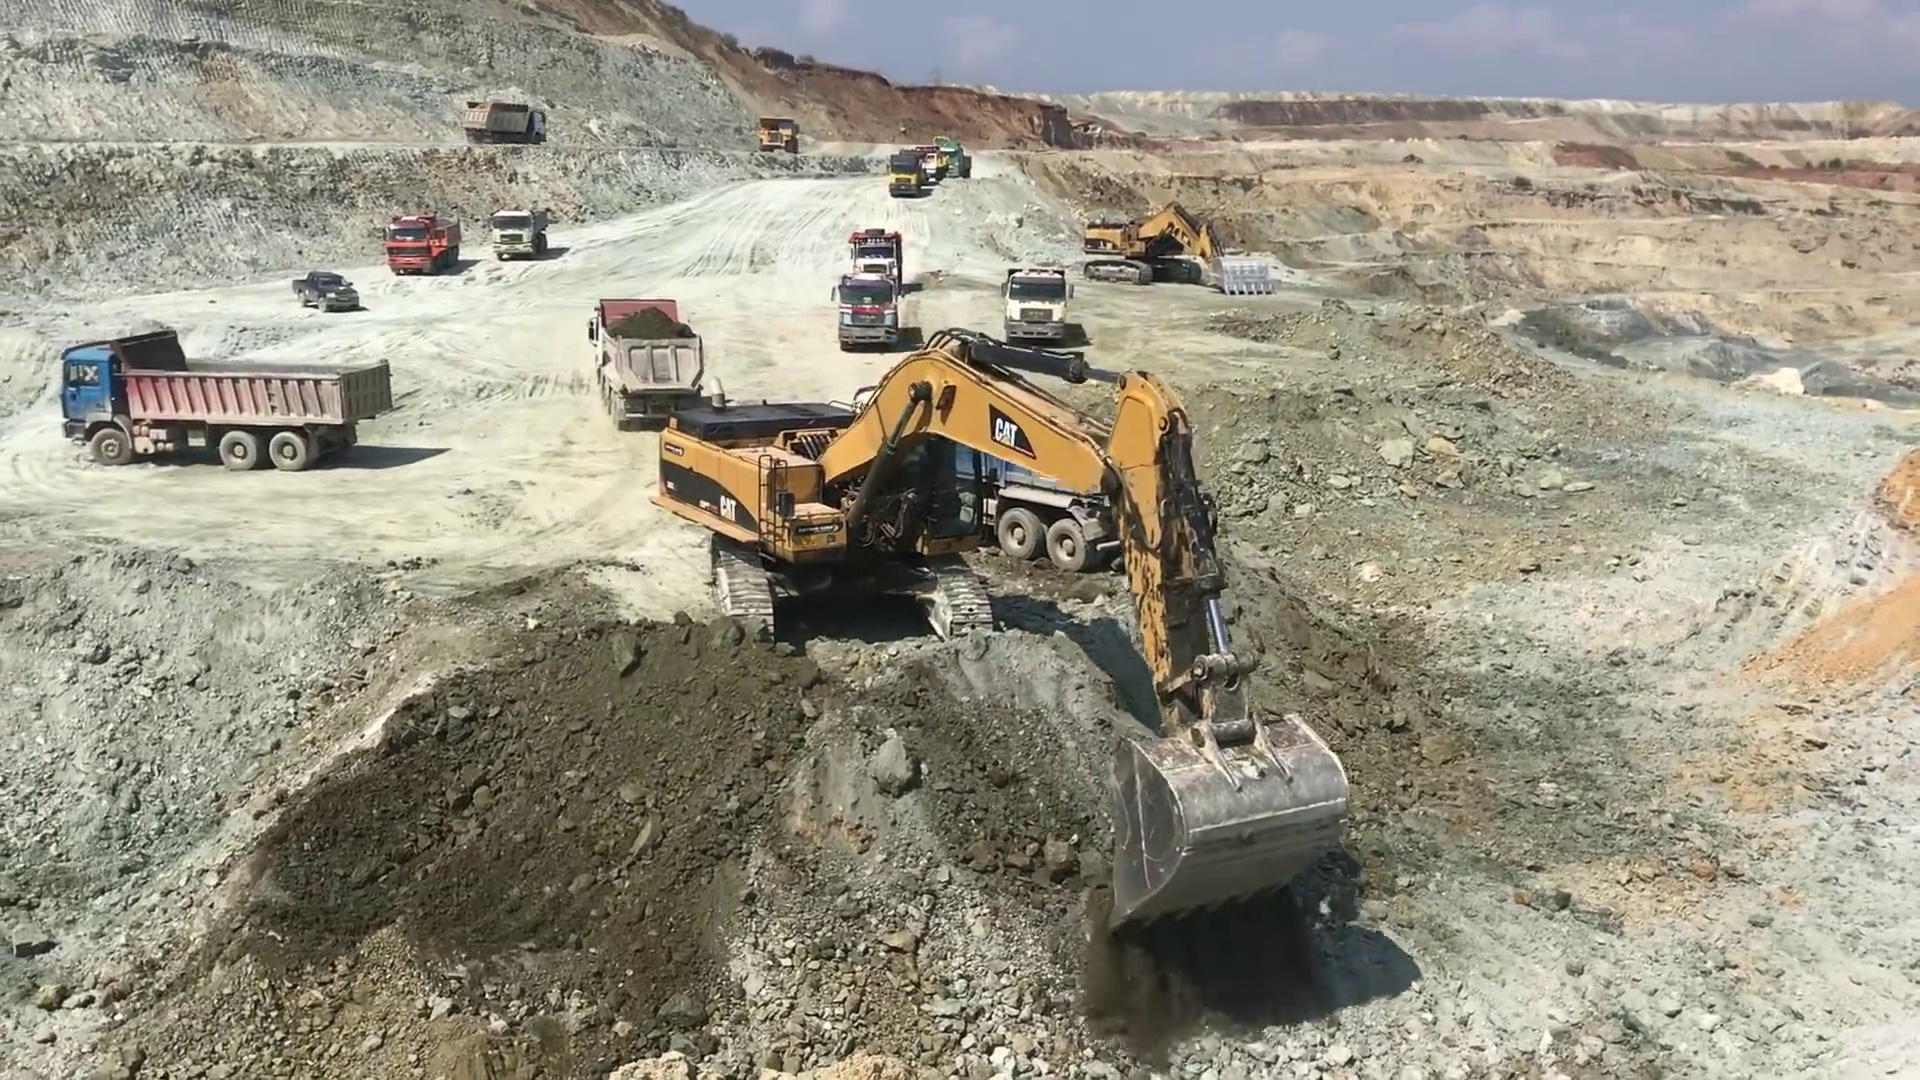car: (289, 264, 364, 314)
excavator: (651, 324, 1360, 936), (1083, 206, 1276, 310)
truck: (61, 323, 397, 479), (588, 294, 705, 429), (1001, 258, 1073, 345), (382, 211, 464, 276), (829, 274, 902, 347), (891, 136, 976, 196), (462, 98, 553, 142), (852, 219, 902, 287), (489, 206, 547, 258), (760, 113, 802, 158)
